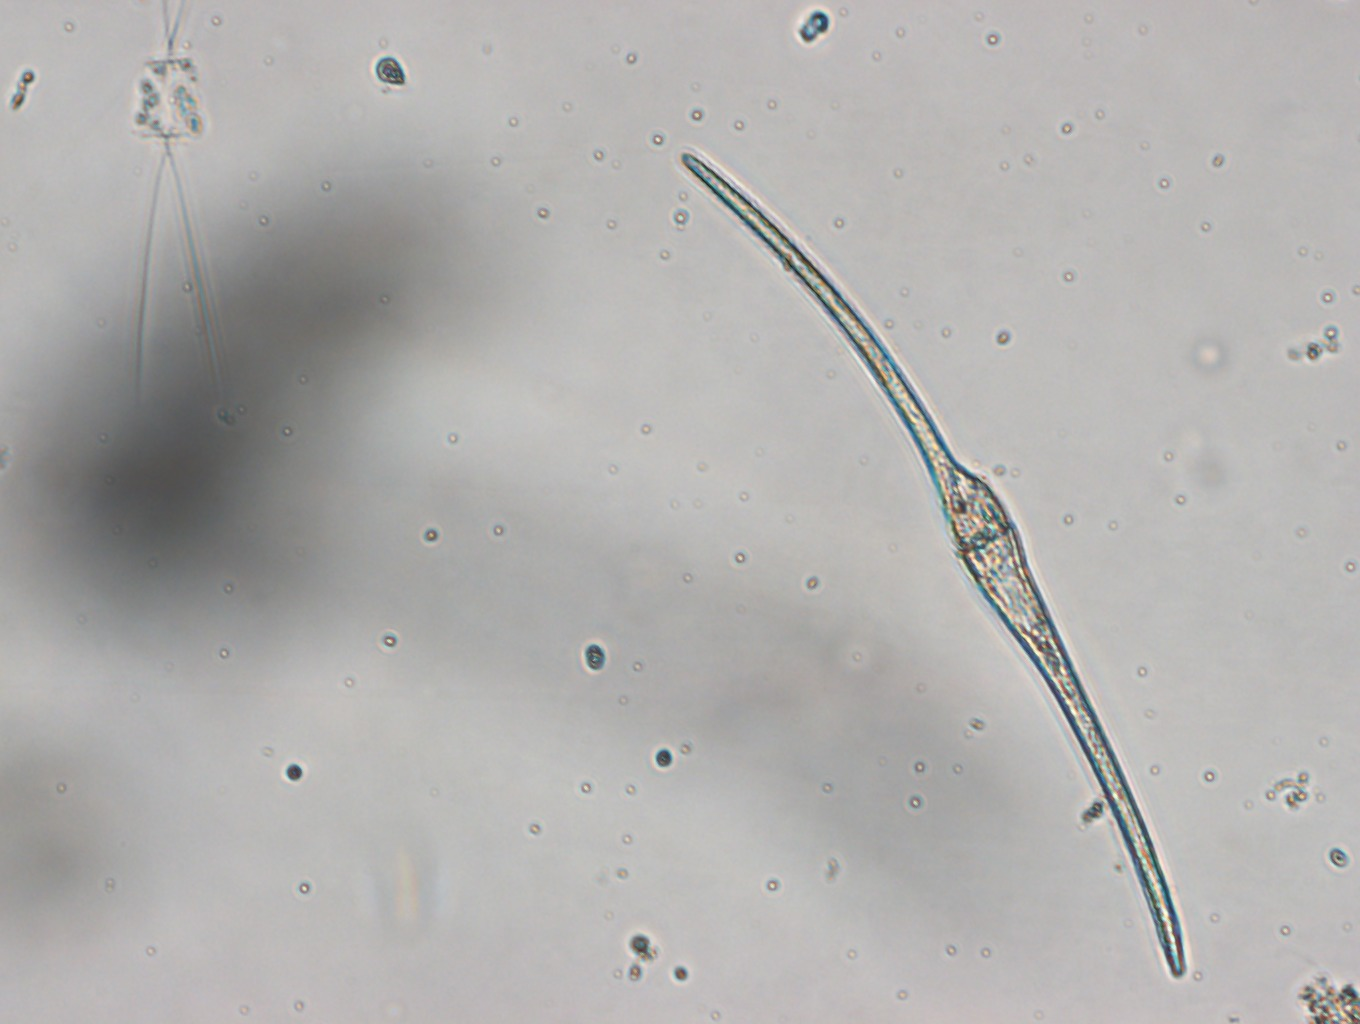ceratium fusus: (679, 150, 1187, 979)
chaetoceros: (132, 1, 218, 394)
